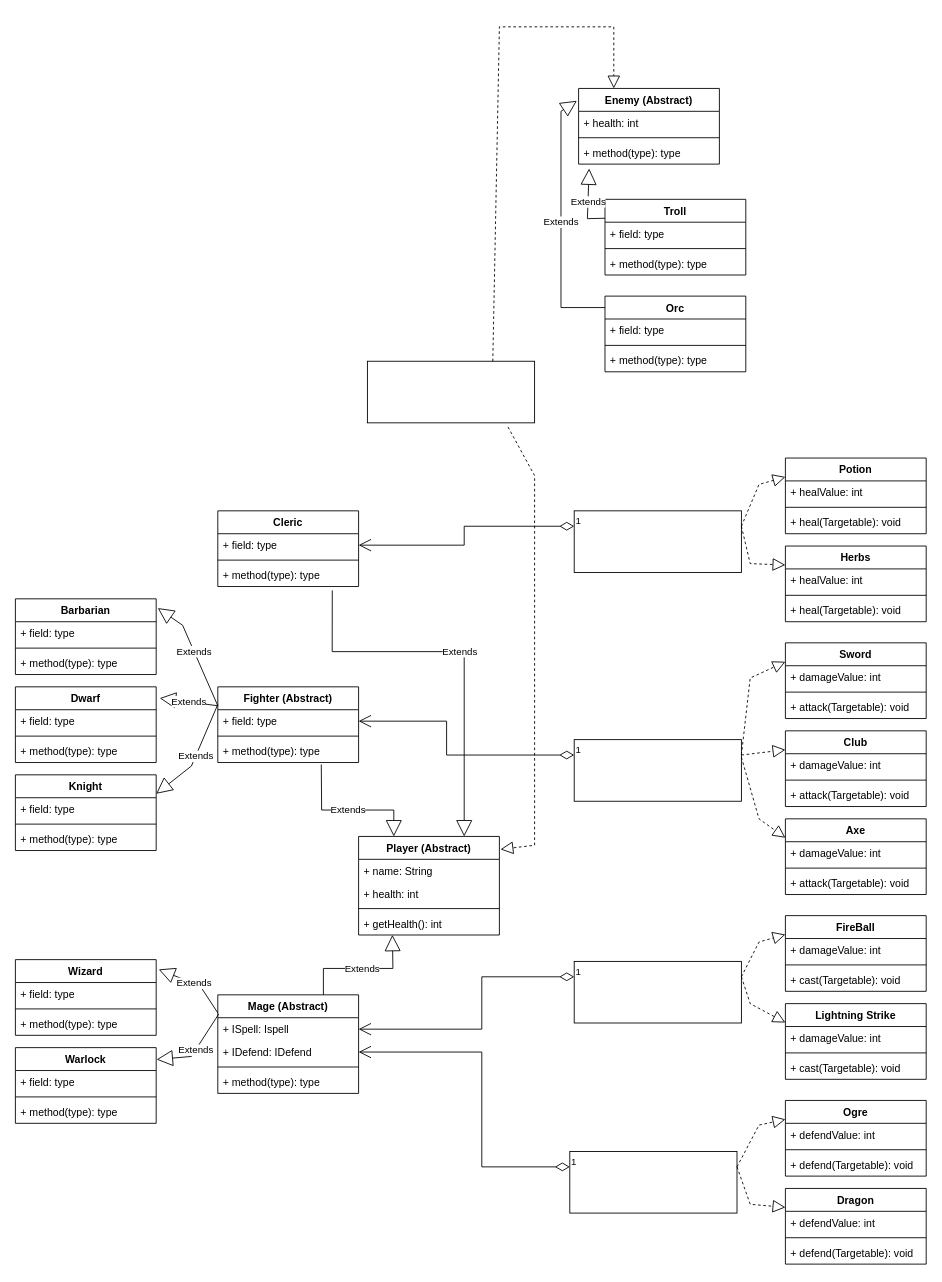
The diagram is 942 pixels wide and 1282 high, and some of its shapes have lost their labels. Each missing label, with the centre of its shape:
<<Interface>> IDefend + defend(Type): Type: point (653, 1182)
<<Interface>> IHeal + heal(Type): Type: point (657, 541)
<<Interface>> ISpell + cast(Type): Type: point (657, 992)
<<Interface>> IWeapon + attack(Type): Type: point (657, 770)
<<Interface>> Targetable + getHealth(): void: point (451, 391)
